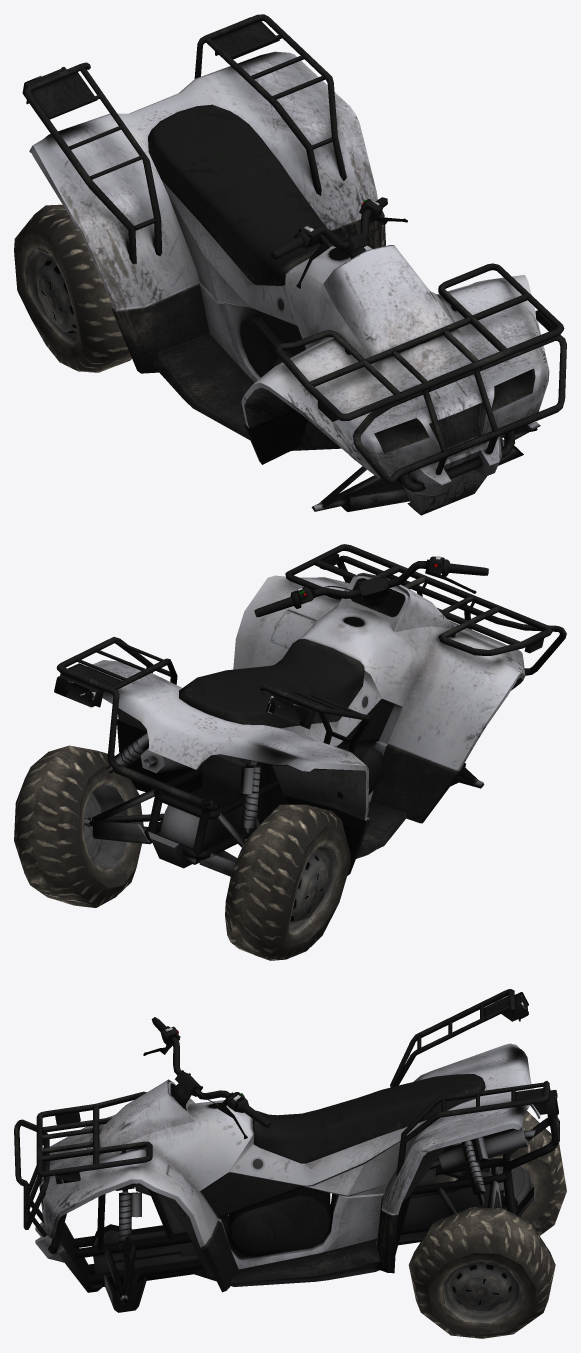
The model's file is Wreck_QuadBike.obj.
The picture shows the model from 3 angles, top to bottom: view 1: azimuth 30°, elevation 25°; view 2: azimuth 150°, elevation 25°; view 3: azimuth 270°, elevation 25°; orthographic projection. The views are drawn at different scales.
Parts seen in each view (by area): view 1: default; view 2: default; view 3: default.
Boxes of the visible parts, box(x1,y1,x2,y2) form: default: box(14, 14, 566, 515); default: box(14, 544, 566, 960); default: box(14, 989, 566, 1338).
Bounding box in the file's own units: 118 × 99.14 × 207.
